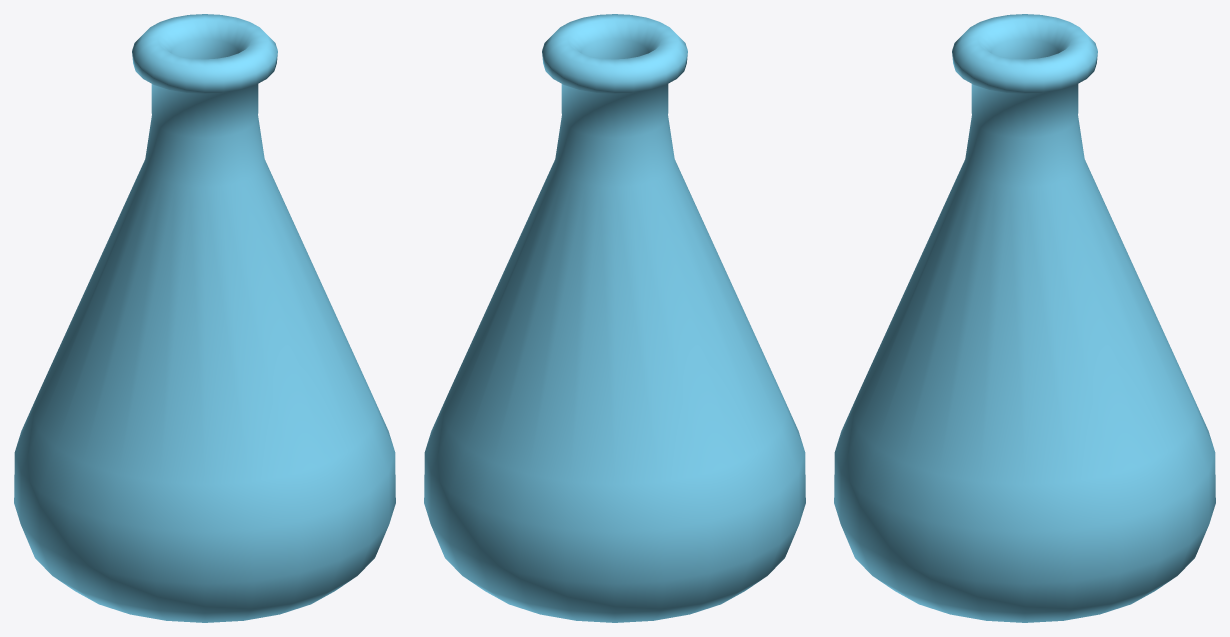
File: Flask, Erlenmeyer, Short Neck.fbx
3 renders of one model, left to right at view 1: azimuth 30°, elevation 25°; view 2: azimuth 150°, elevation 25°; view 3: azimuth 270°, elevation 25°, orthographic.
Parts seen in each view (by area): view 1: Flask, Erlenmeyer, Short Neck_LOD0; view 2: Flask, Erlenmeyer, Short Neck_LOD0; view 3: Flask, Erlenmeyer, Short Neck_LOD0.
Part boxes in pixels (left/top/right/bottom): Flask, Erlenmeyer, Short Neck_LOD0: left=14, top=14, right=395, bottom=622; Flask, Erlenmeyer, Short Neck_LOD0: left=424, top=14, right=805, bottom=622; Flask, Erlenmeyer, Short Neck_LOD0: left=834, top=14, right=1215, bottom=622.
Size of what is drawn, in the model's own units: 0.5726 by 0.8821 by 0.5726.
